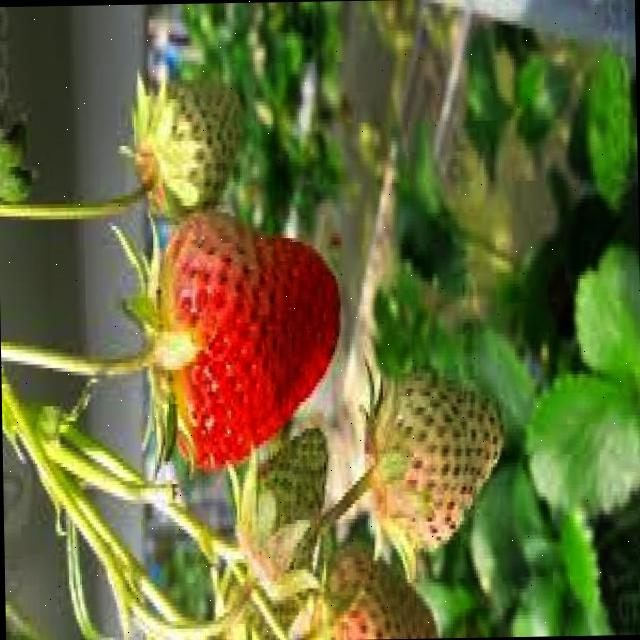strawberry: (142, 212, 340, 471), (364, 372, 510, 555), (134, 77, 246, 216), (237, 434, 331, 584), (304, 554, 440, 640)
